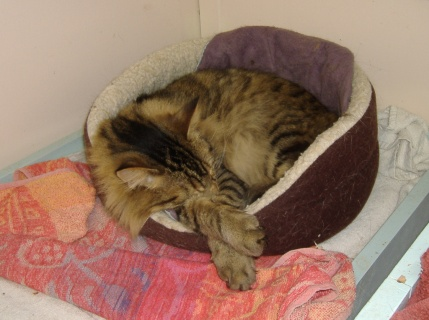Cat: (86, 65, 341, 291)
